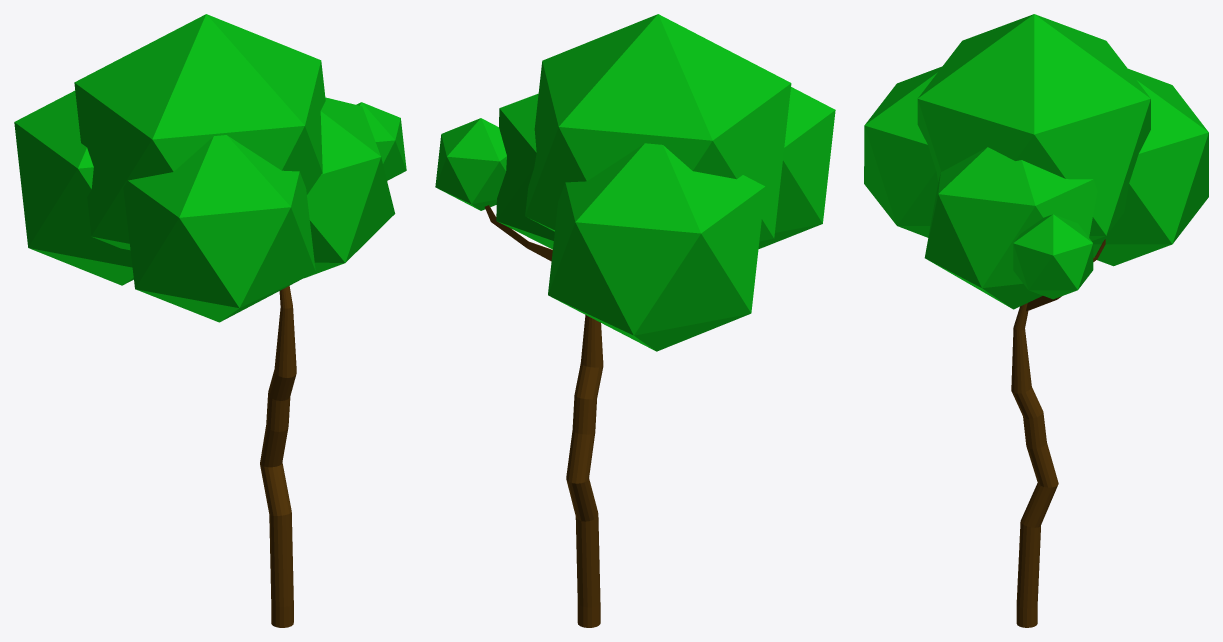
File: tall_tree.gltf
The picture shows the model from 3 angles, left to right: view 1: azimuth 30°, elevation 25°; view 2: azimuth 150°, elevation 25°; view 3: azimuth 270°, elevation 25°; orthographic projection. The views are drawn at different scales.
Visible parts, largest first — view 1: Tree4; view 2: Tree4; view 3: Tree4.
Boxes of the visible parts, box(x1,y1,x2,y2) form: Tree4: box(14, 14, 406, 627); Tree4: box(435, 14, 835, 627); Tree4: box(864, 14, 1208, 627).
Bounding box in the file's own units: 1.89 × 3.32 × 1.8.
